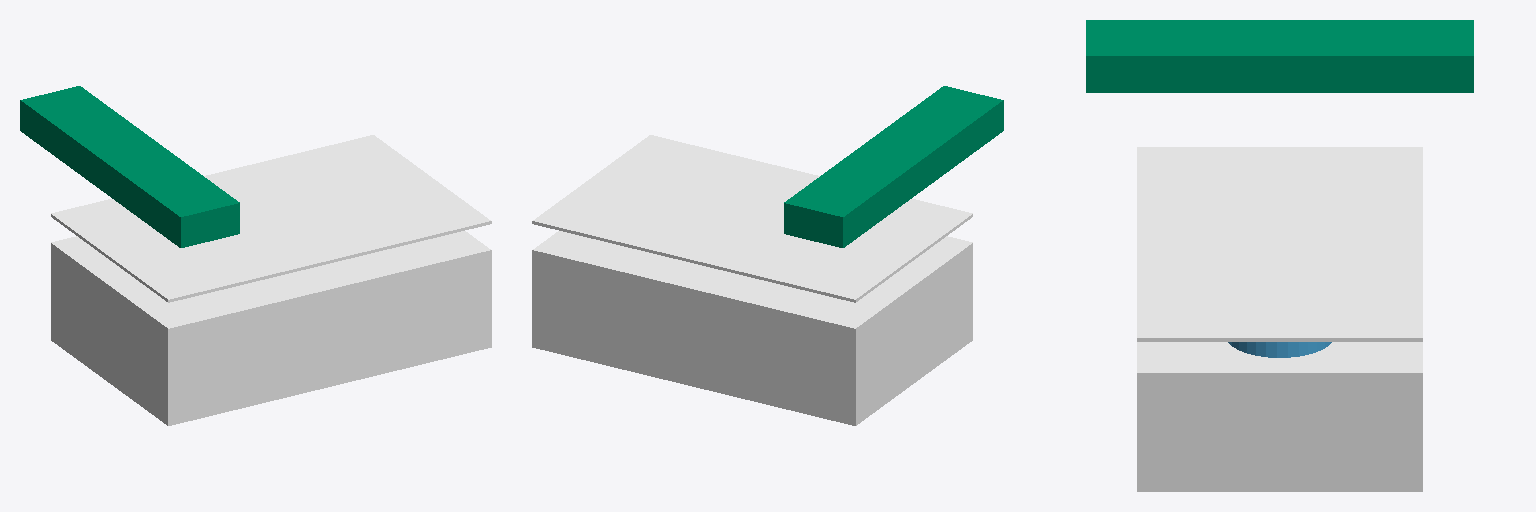
URDF robot description (origins):
<?xml version="1.0"?>
<robot name="origins">
	<link name="base_link">
		<visual>
			<geometry>
				<box size="0.326 0.206 .094"/>
			</geometry>
			<origin xyz="0 0 0.072"/>
			<material name="white">
				<color rgba="1 1 1 1"/>
			</material>
		</visual>
	</link>

	<link name="base_laser">
		<visual>
			<geometry>
				<cylinder length="0.02" radius="0.04"/>
			</geometry>
		</visual>
	</link>

	<link name="openni_camera">
		<visual>
			<geometry>
				<box size="0.06 .28 .03"/>
			</geometry>
			<origin rpy="0 0.05 0" xyz="-0.03 0 0"/>
		</visual>
	</link>

	<link name="top_plate">
		<visual>
			<geometry>
				<box size="0.326 0.206 .003"/>
			</geometry>
			<origin xyz="0 0 -0.0015"/>
			<material name="polycarb">
				<color rgba="1 1 1 0.1"/>
			</material>
		</visual>
	</link>

	<joint name="base_link_to_base_laser" type="fixed">
		<parent link="base_link"/>
		<child link="base_laser"/>
		<origin rpy="0 0 -0.05" xyz="0.097 0.0 0.125"/>
	</joint>

	<joint name="base_link_to_openni_camera" type="fixed">
		<parent link="base_link"/>
		<child link="openni_camera"/>
		<origin rpy="0 -0.05 0" xyz="-0.112 0.0 0.230"/>
	</joint>

	<joint name="base_link_to_top_plate" type="fixed">
		<parent link="base_link"/>
		<child link="top_plate"/>
		<origin xyz="0 0.0 0.147"/>
	</joint>

</robot>

--- What the picture shows (computed from the rendered views, not written in the file) ---
3 views of the same robot in one strip: view 1: azimuth 30°, elevation 25°; view 2: azimuth 150°, elevation 25°; view 3: azimuth 270°, elevation 25° (orthographic).
Model origins with 4 links and 3 joints (3 fixed), rooted at base_link, posed every joint at zero.
Visible links, largest first — view 1: base_link, top_plate, openni_camera; view 2: base_link, top_plate, openni_camera; view 3: top_plate, base_link, openni_camera, base_laser.
Boxes of the visible links, x1,y1,x2,y2 form: base_link: (51,231,491,425); top_plate: (51,135,491,302); openni_camera: (20,86,239,247); base_link: (532,231,972,425); top_plate: (532,135,972,302); openni_camera: (784,86,1003,247); top_plate: (1137,147,1422,341); base_link: (1137,342,1422,491); openni_camera: (1086,20,1473,92); base_laser: (1228,342,1331,357).
Bounding box of the posed robot: 0.335 × 0.28 × 0.2185 m (x, y, z).
Geometry: primitives only (box / cylinder / sphere), no mesh files.